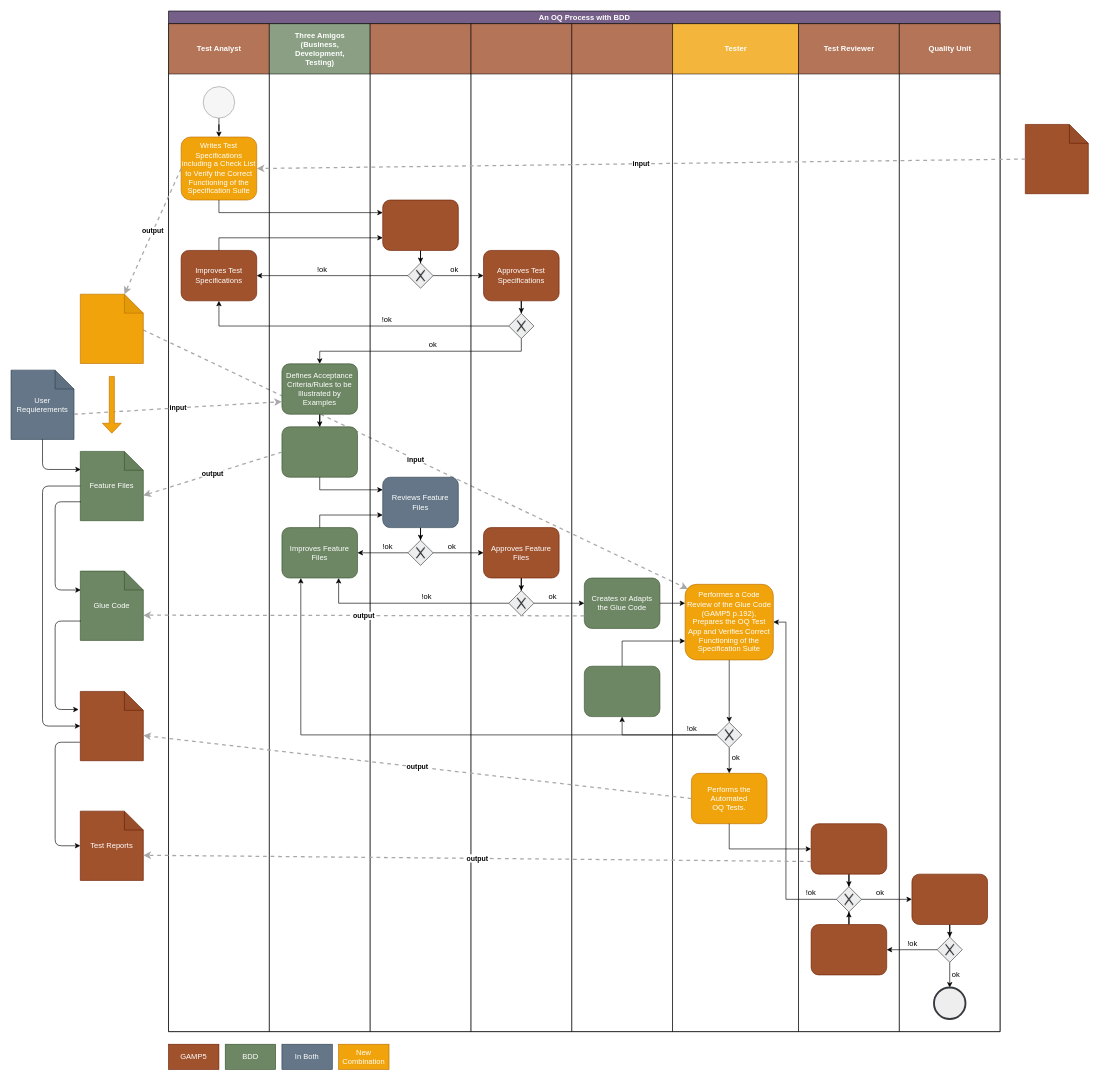
This 1099x1080 diagram has some shape labels left out. The shapes that lost their labels are listed below. From the top down, each one's box as (x1, y1, x2, y2) in pixels, then its label:
(1025, 124, 1088, 194): Test Strategy Test Plan Approved by the Quality Unit
(382, 199, 458, 250): Reviews Test Specifications
(80, 294, 143, 364): Test Specifications
(281, 426, 358, 477): Creates Feature Files with the Examples that are Formulated into Scenarios
(369, 23, 471, 1032): SME
(470, 23, 572, 1032): Process Owner
(571, 23, 673, 1032): Supplier
(584, 666, 660, 717): Corrects the Glue Code
(80, 691, 143, 761): Test Results
(810, 823, 887, 874): Reviews Test Results and Writes Test Report
(911, 873, 988, 925): Reviews and Appproves Test Reports
(810, 924, 887, 975): Corrects Review of the Test Results or ImprovesTest Report
